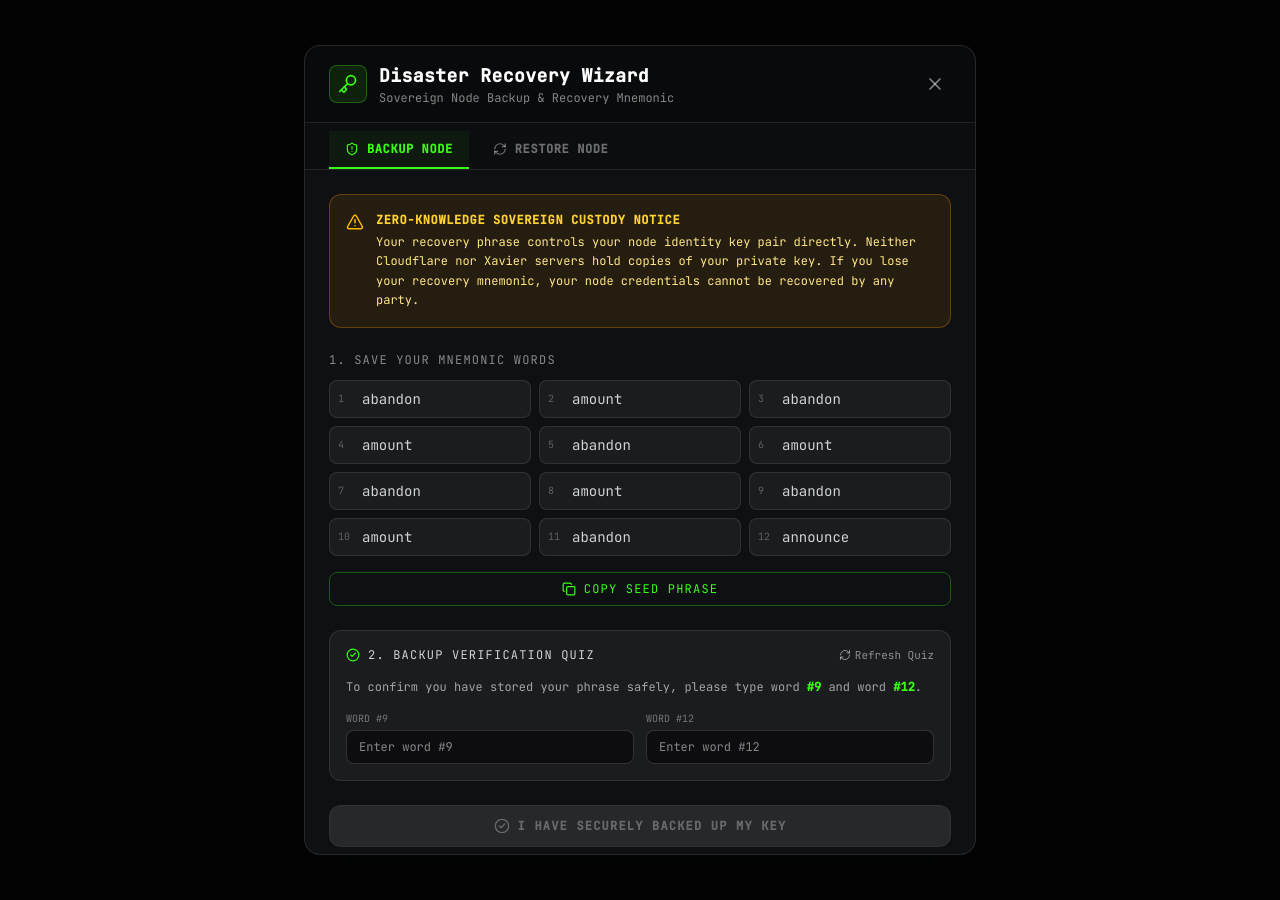
Scenario: RecoveryModal Component › switches tabs between Backup Node and Restore Node
Check: the heading "2. Backup Verification Quiz" is shown, box [346,647,595,663]
# Click Restore tab
Click the button "Restore Node" at [551, 150], box [477,131,624,169]
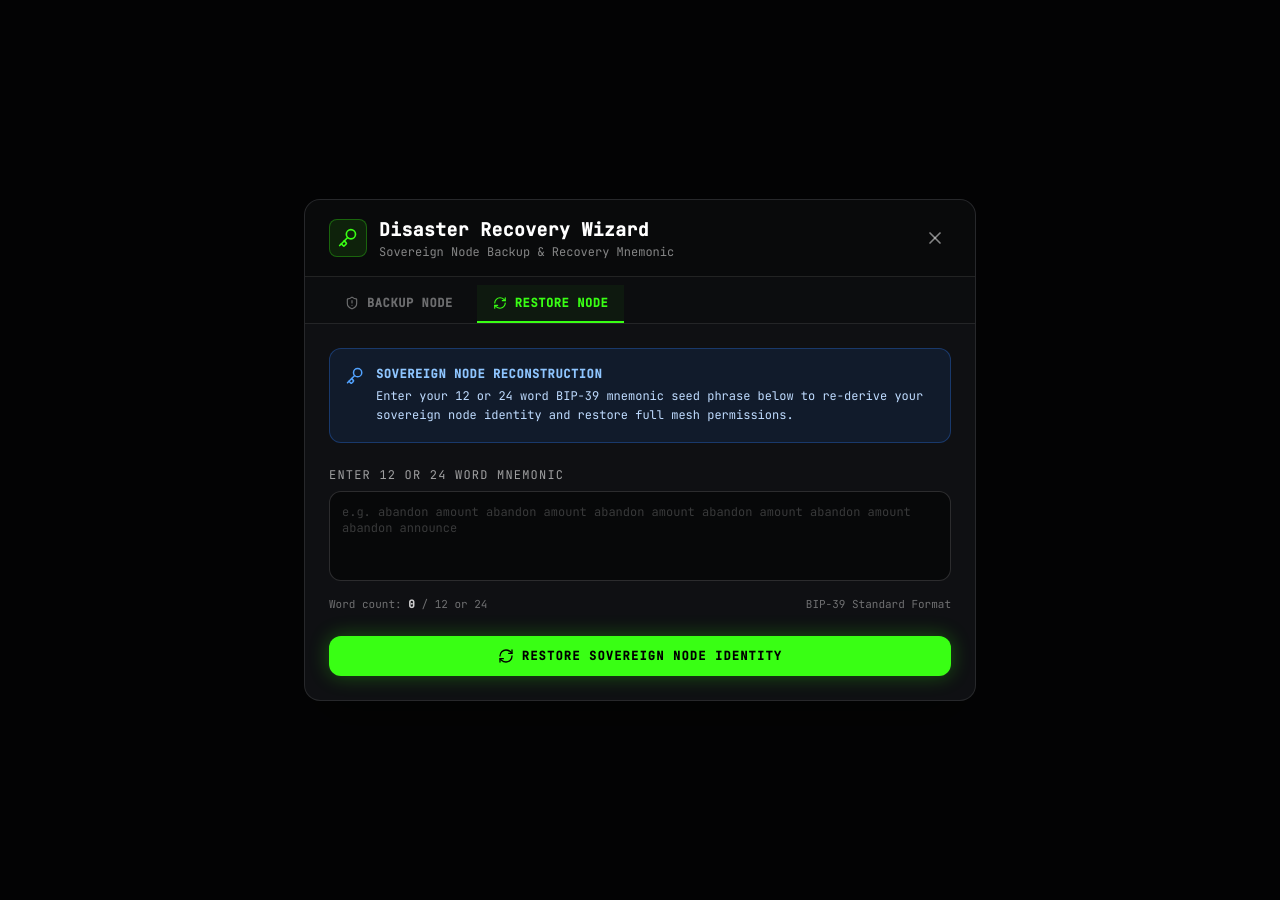
Check: the text "Sovereign Node Reconstruction" is shown, box [376,366,602,382]
Check: the text box with placeholder "abandon amount abandon amount" is shown, box [329,490,951,580]
# Click Backup tab again
Click the button "Backup Node" at [399, 304], box [329,285,469,323]
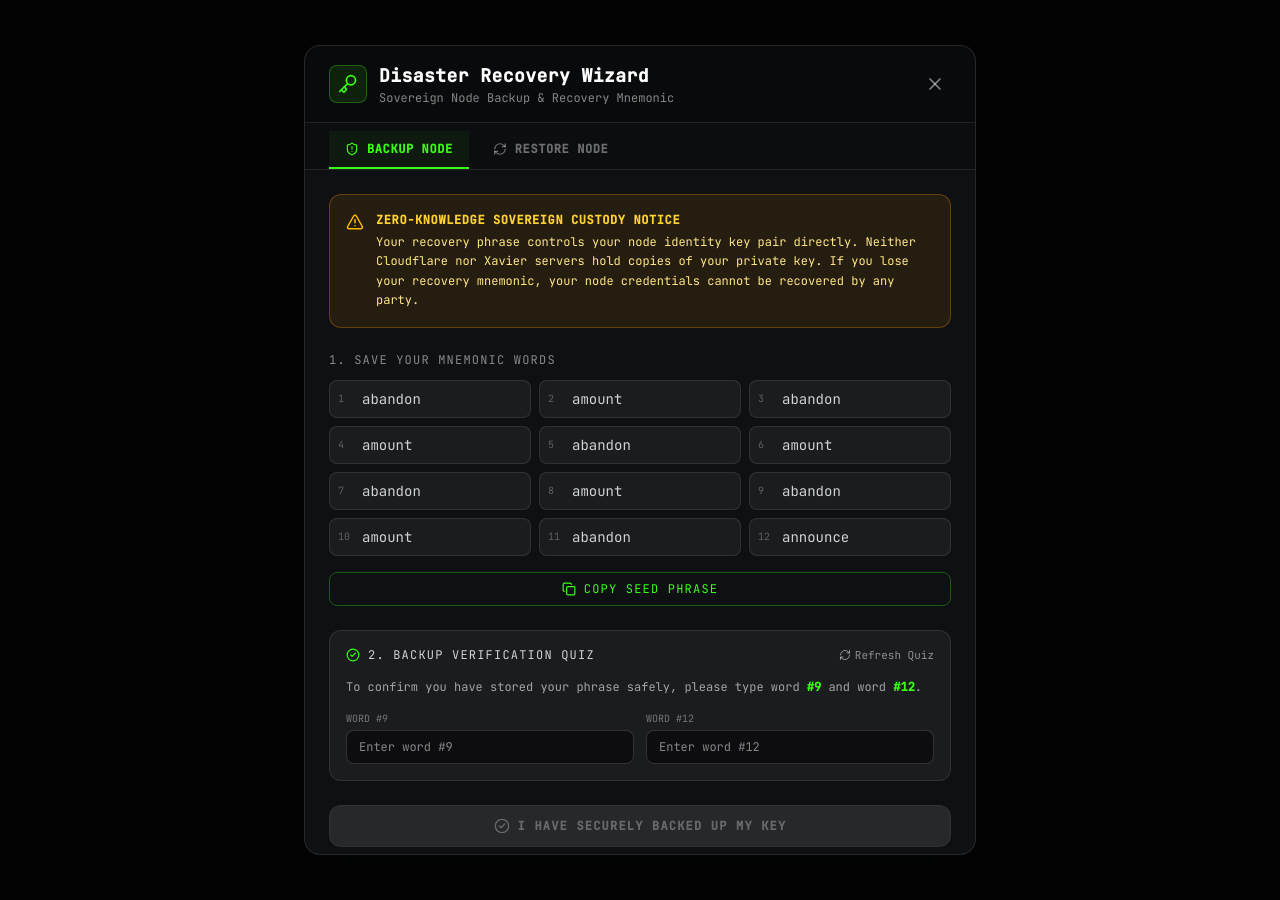
Check: the heading "2. Backup Verification Quiz" is shown, box [346,647,595,663]
